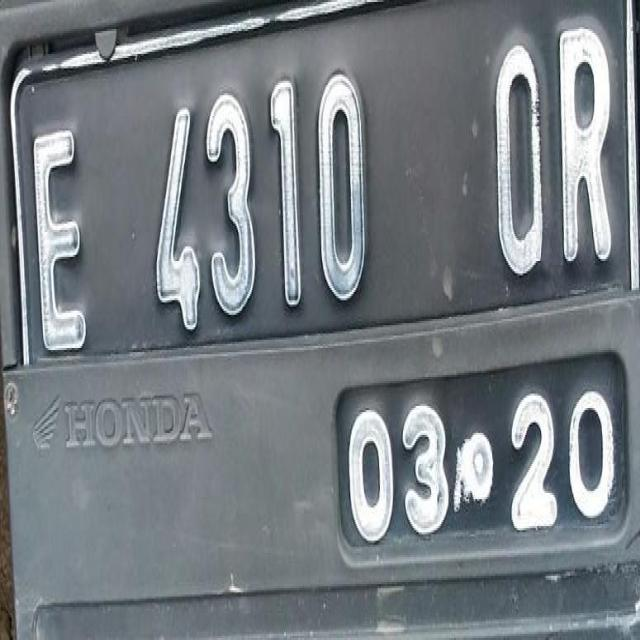0: (312, 62, 370, 313)
1: (264, 66, 309, 328)
3: (198, 61, 265, 337)
4: (144, 85, 207, 341)
E: (23, 97, 98, 360)
Q: (480, 44, 557, 288)
R: (557, 26, 617, 272)
